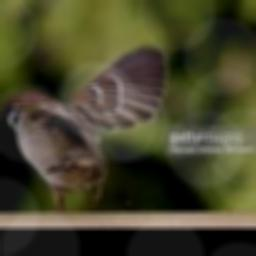Sparrow: (0, 43, 167, 213)
